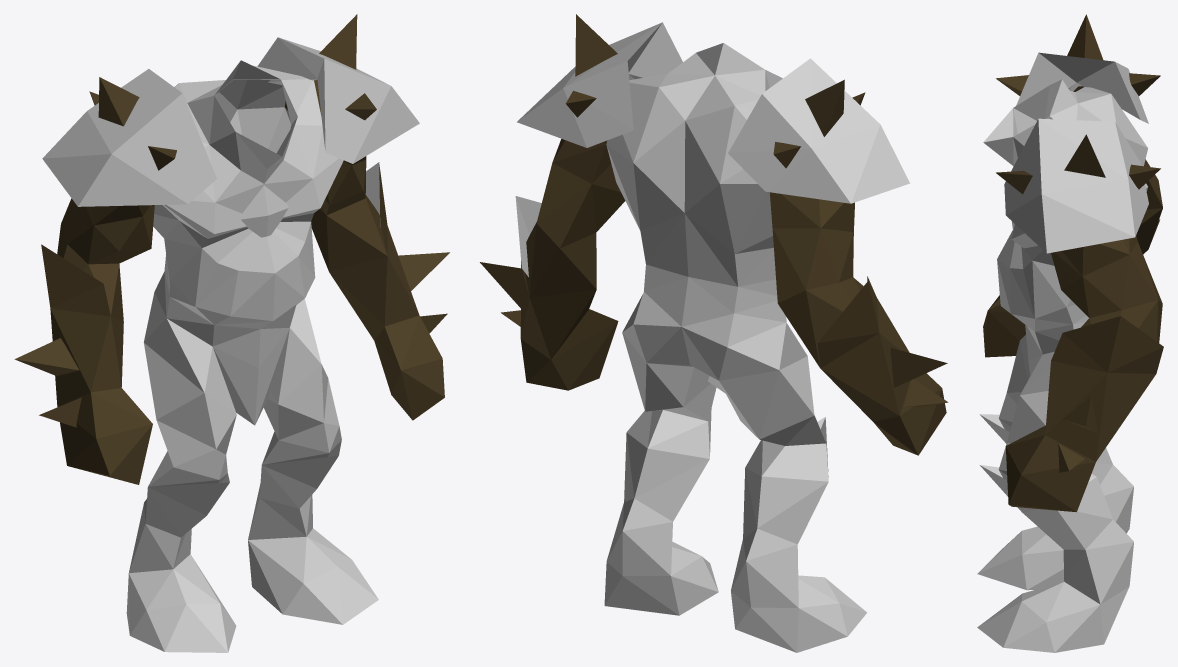
Rendered from ORC_BODYWARRIOR.OBJ.
3 views of the same model, side by side, from view 1: azimuth 30°, elevation 25°; view 2: azimuth 150°, elevation 25°; view 3: azimuth 270°, elevation 25° (orthographic). The views are drawn at different scales.
Parts seen in each view (by area): view 1: ORC_BODYWARRIOR; view 2: ORC_BODYWARRIOR; view 3: ORC_BODYWARRIOR.
Boxes of the visible parts, bbox=[...] form: ORC_BODYWARRIOR: bbox=[14, 14, 449, 652]; ORC_BODYWARRIOR: bbox=[480, 14, 948, 652]; ORC_BODYWARRIOR: bbox=[977, 14, 1163, 652].
Bounding box in the file's own units: 1.76 × 2.09 × 0.6717.
